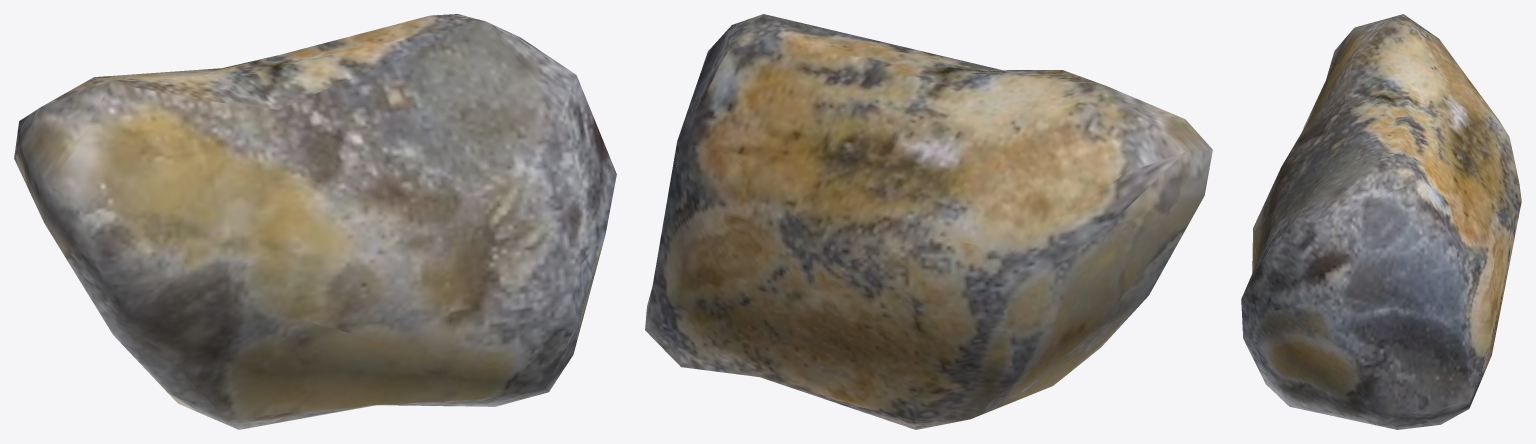
3 views of the same model, side by side, from view 1: azimuth 30°, elevation 25°; view 2: azimuth 150°, elevation 25°; view 3: azimuth 270°, elevation 25° (orthographic). The views are drawn at different scales.
Visible parts, largest first — view 1: rock090_lod4; view 2: rock090_lod4; view 3: rock090_lod4.
Boxes of the visible parts, box(x1,y1,x2,y2) form: rock090_lod4: box(14, 14, 616, 429); rock090_lod4: box(645, 14, 1212, 429); rock090_lod4: box(1241, 14, 1521, 429).
Size of the model in its own units: 1 by 0.6412 by 0.6146.
1 material, 1 textured.
